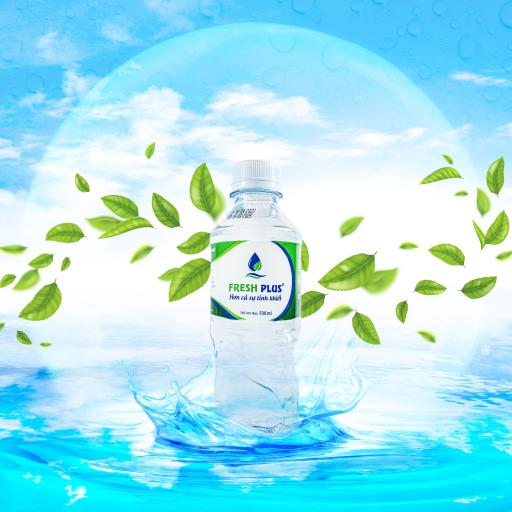bottle: (209, 160, 302, 433)
